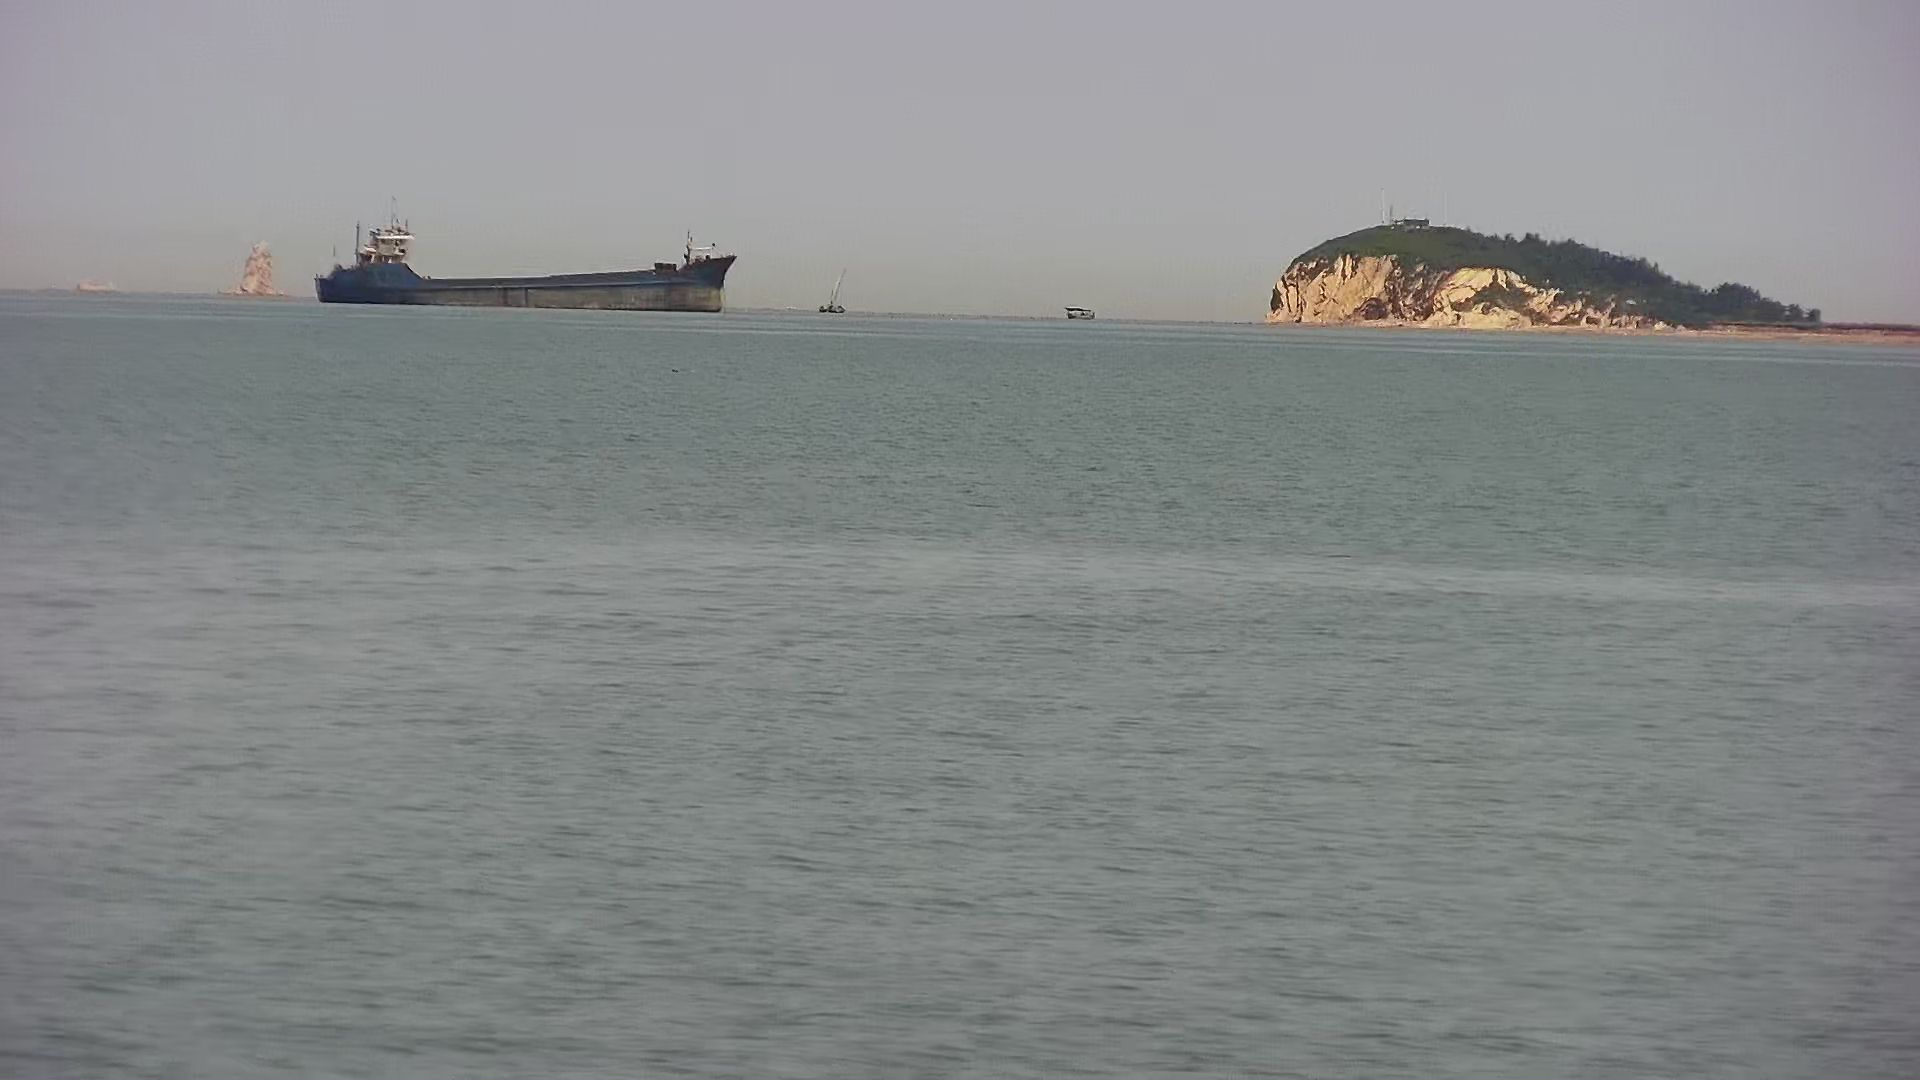rock: (1259, 214, 1920, 335)
ship: (309, 216, 746, 316)
